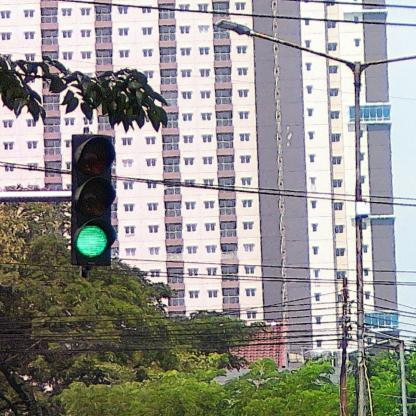green: (70, 135, 116, 267)
